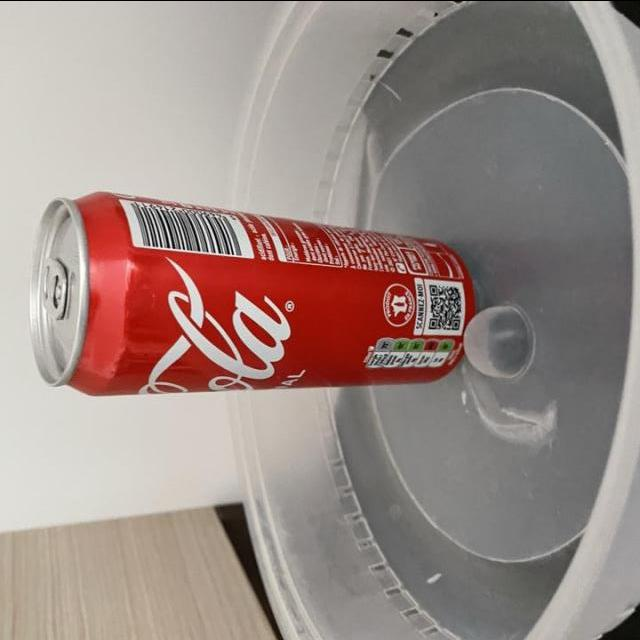can: (14, 185, 493, 402)
